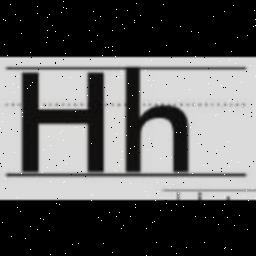h: (18, 61, 112, 181), (116, 56, 196, 180)
